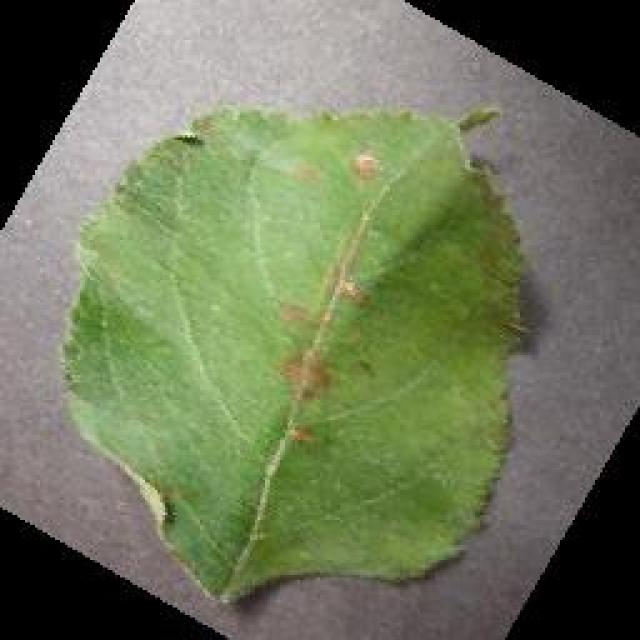apple healthy: (58, 97, 530, 605)
